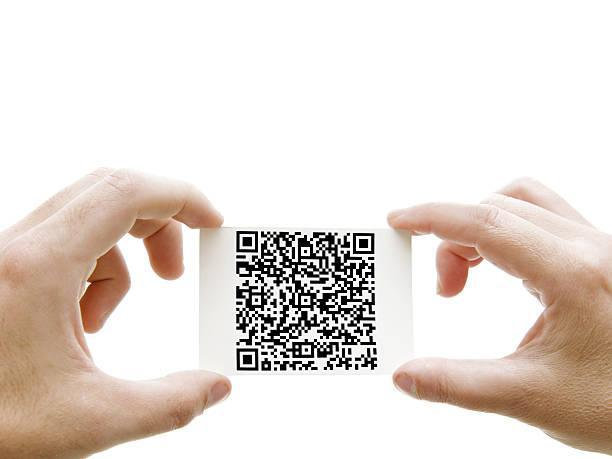Finder pattern: (230, 344, 264, 376), (349, 229, 379, 258), (231, 229, 263, 256)
